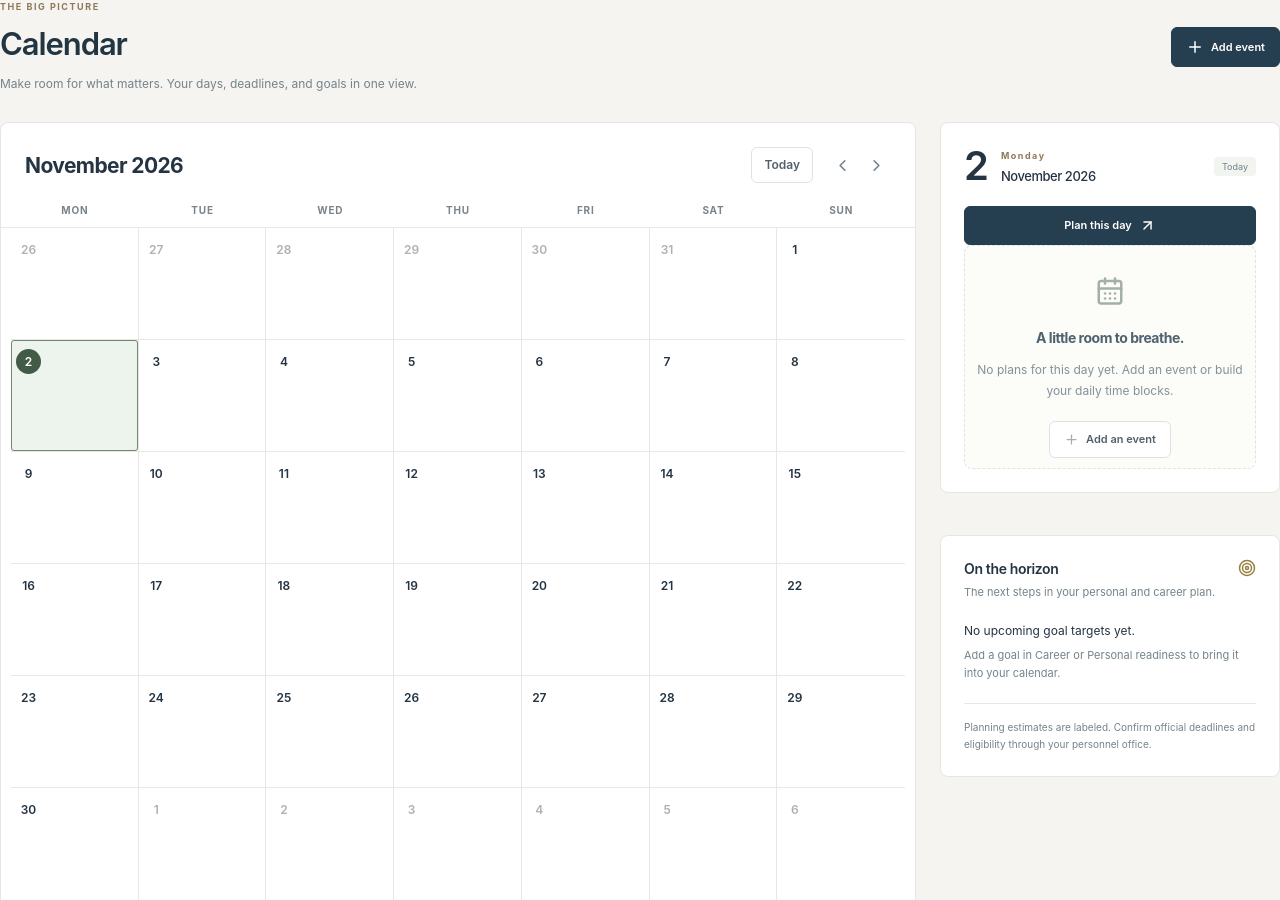
it: integrated calendar › renders supported boundary date 0001-01-01 without crossing the date range
The width and height of the screenshot is (1280, 900).
Click the button "Add event".
click(1226, 47)  # box 1171,27 -> 1279,67
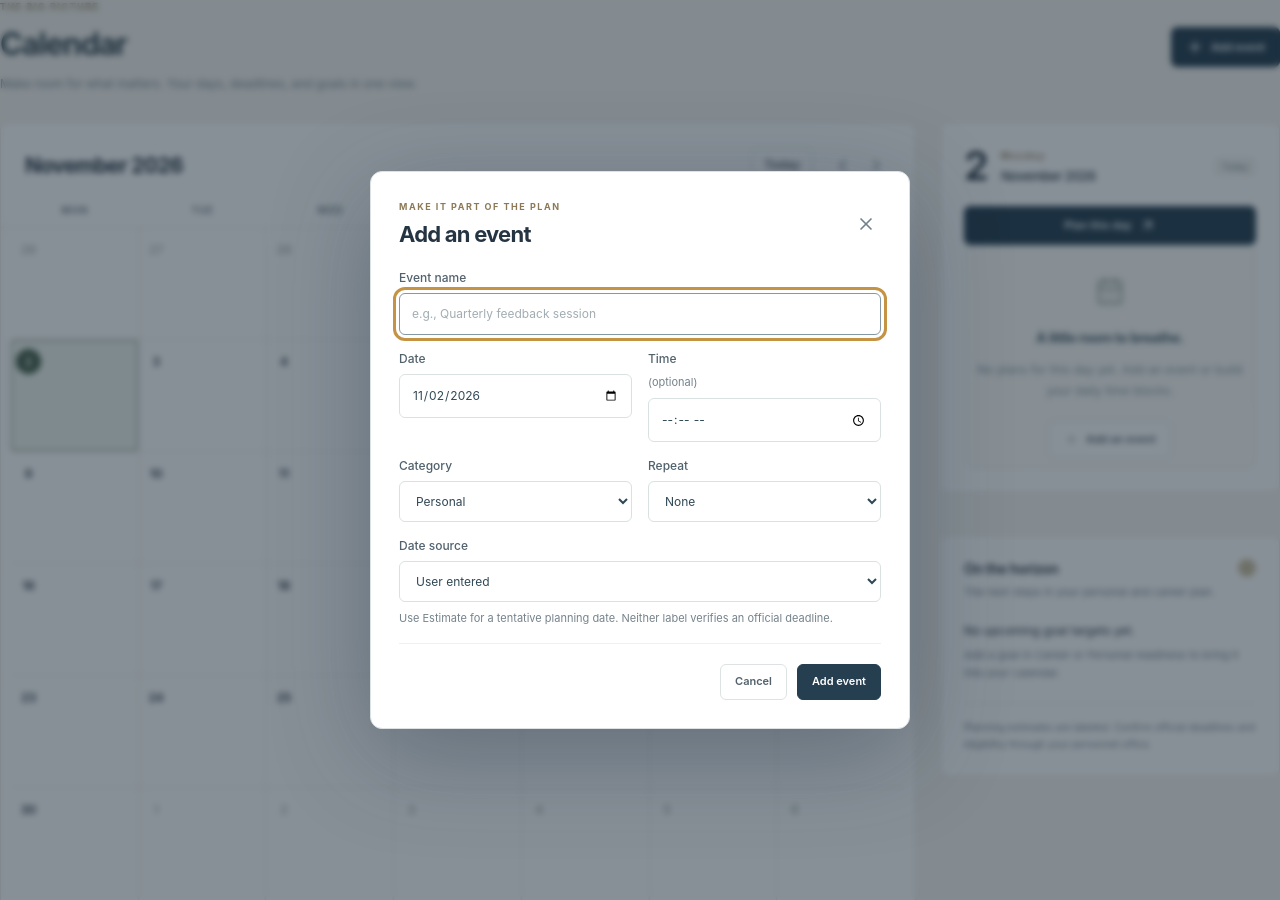
Type "Boundary date" into the field labelled "Event name".
click(640, 314); type("Boundary date")  # box 399,293 -> 881,335
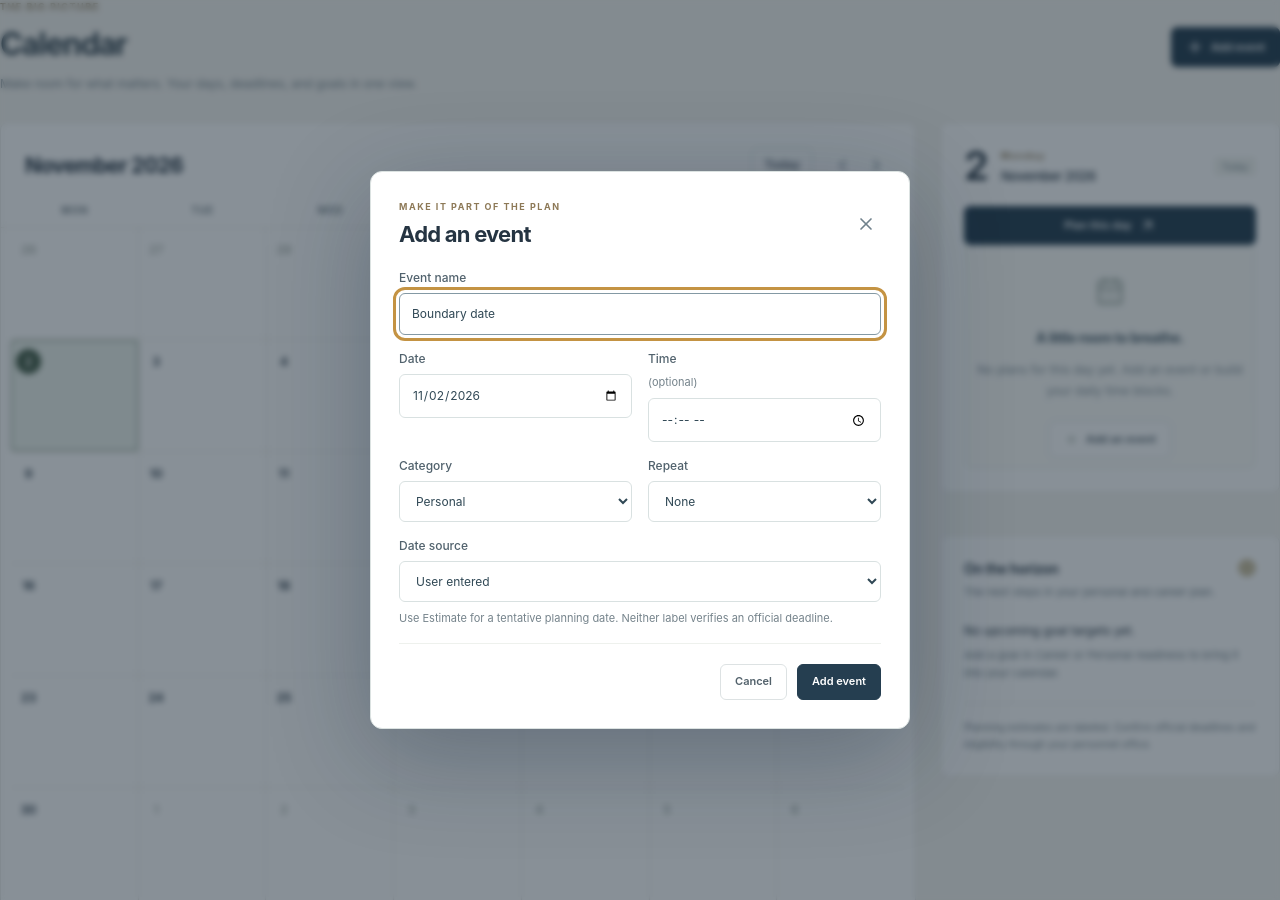
Type "0001-01-01" into the date field labelled "Date".
click(516, 396); type("0001-01-01")  # box 399,374 -> 632,418
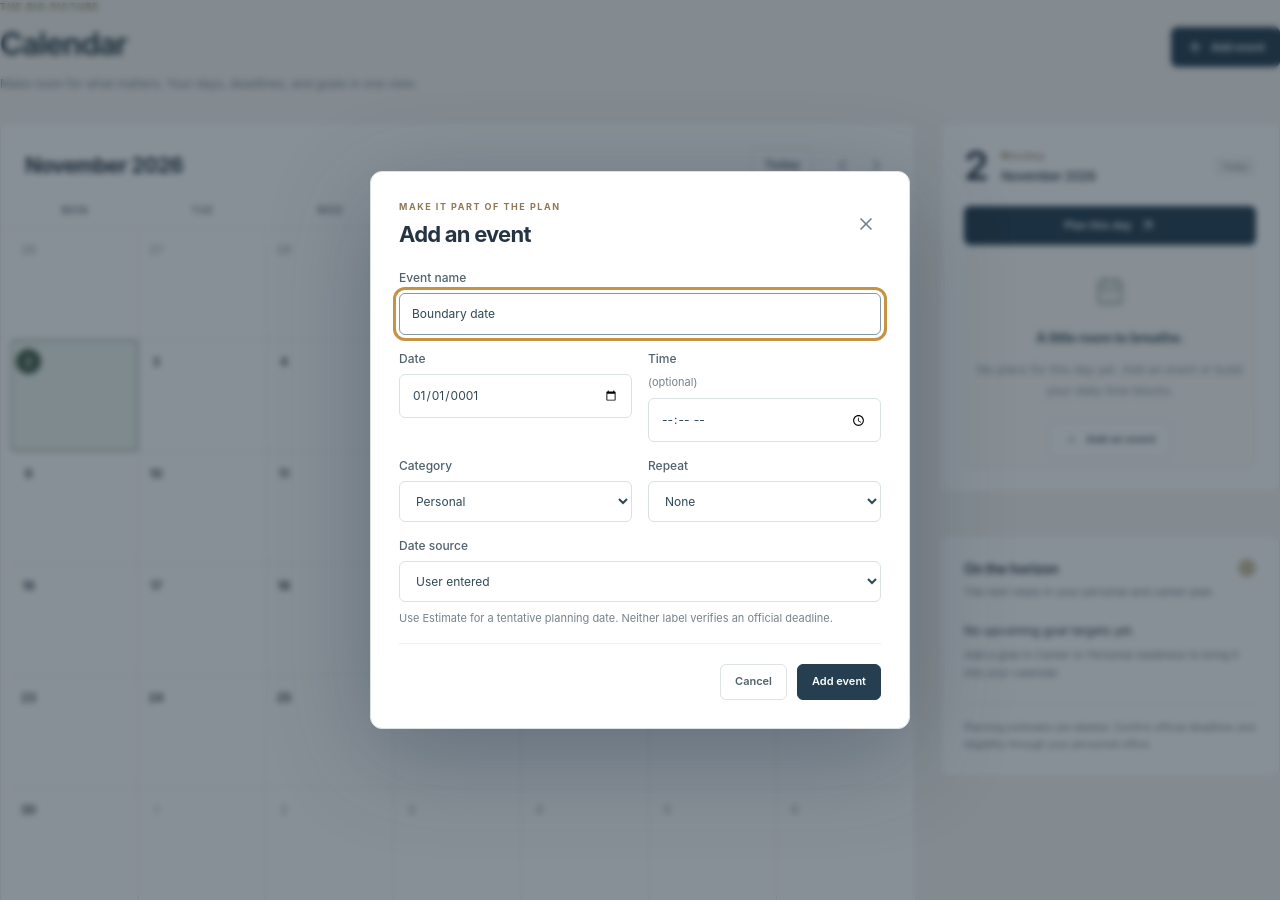
Click the button "Add event".
click(839, 682)  # box 797,664 -> 881,700
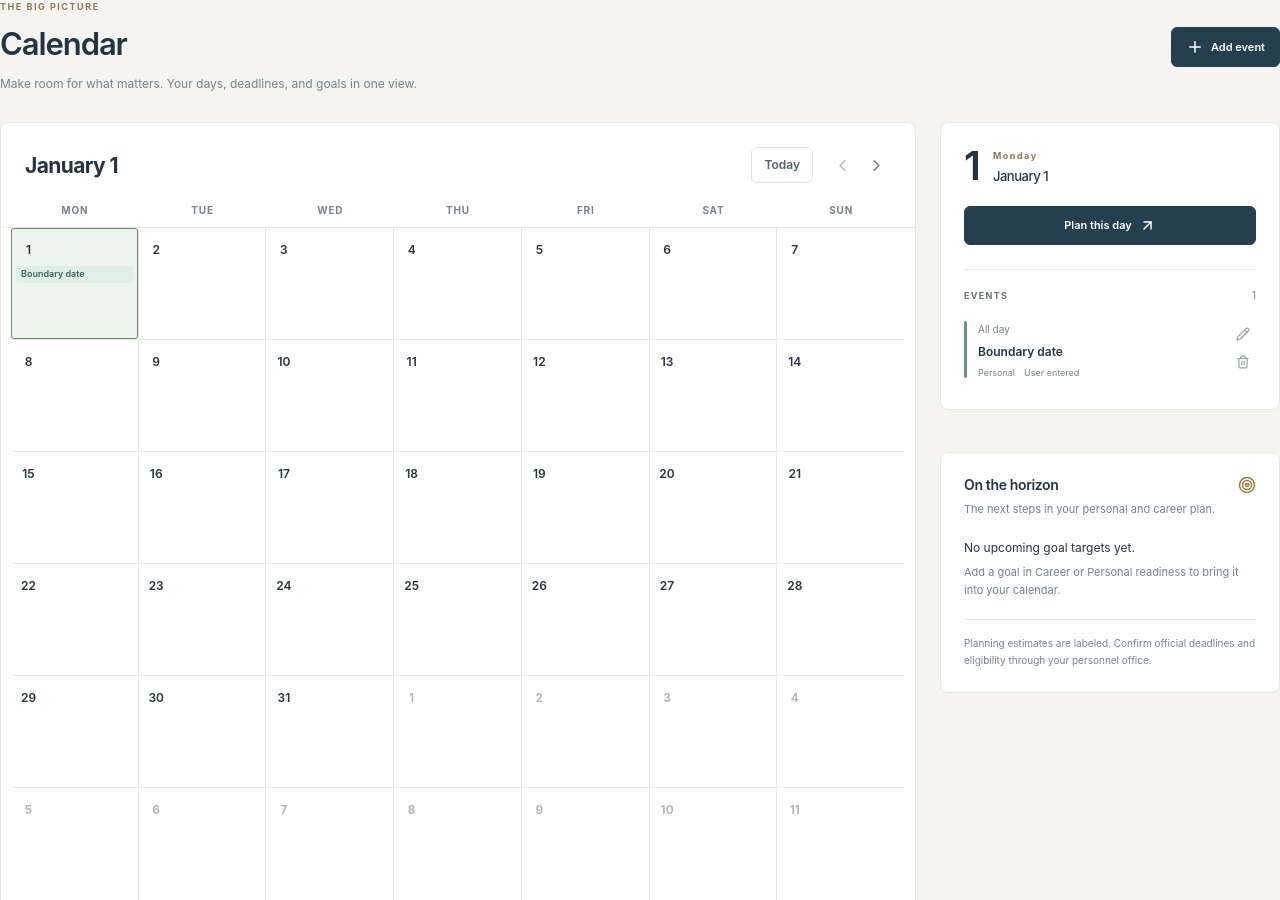
Now the heading "Boundary date" is shown, box 978,344 -> 1063,359
Now the button named "Previous month" is disabled, box 827,150 -> 857,180
